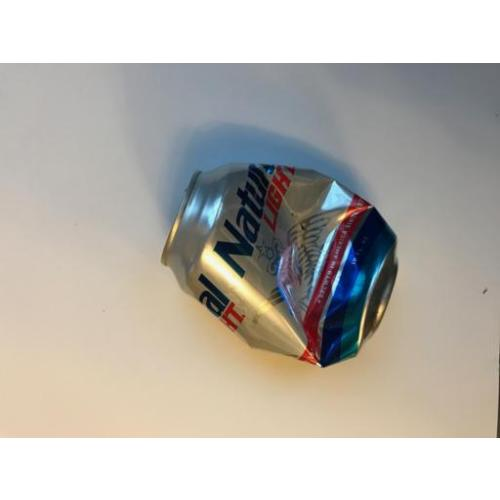metal: (160, 160, 403, 371)
